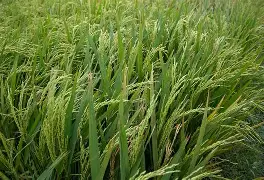crops: (0, 0, 261, 176), (171, 0, 262, 48), (0, 55, 40, 142), (38, 69, 73, 166), (0, 1, 50, 63), (215, 117, 264, 179), (78, 0, 139, 41), (237, 54, 264, 126), (44, 0, 77, 51)
